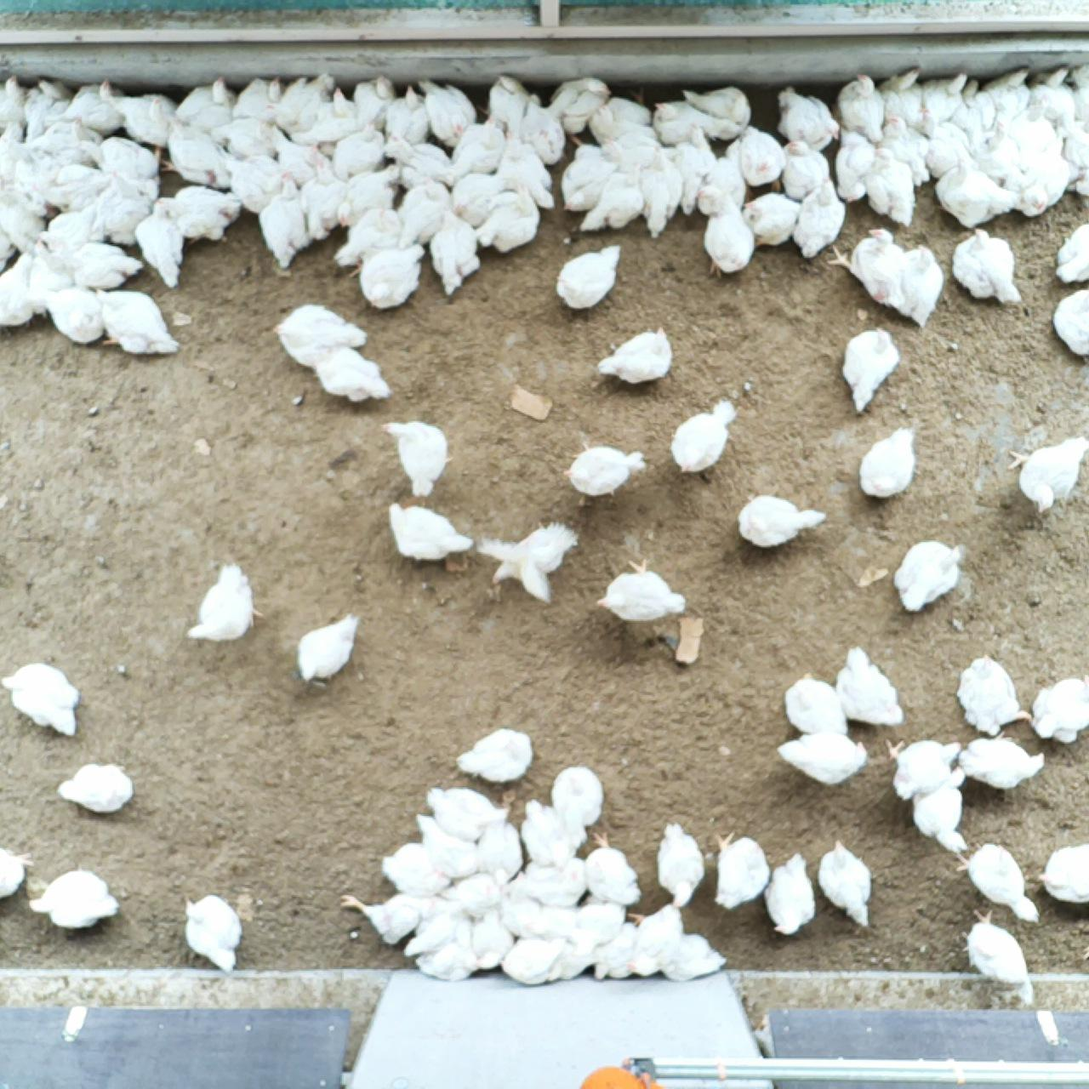chicken: (475, 514, 582, 607), (955, 903, 1038, 1005), (952, 838, 1045, 925), (181, 559, 266, 647), (1006, 432, 1089, 519), (591, 553, 691, 625), (25, 861, 124, 931), (268, 302, 369, 369), (0, 659, 83, 738), (379, 415, 457, 499), (954, 654, 1033, 736), (891, 536, 968, 620), (670, 393, 741, 484), (905, 761, 973, 856), (156, 114, 238, 192), (956, 727, 1048, 796), (94, 285, 182, 357), (826, 227, 903, 309), (835, 643, 907, 730), (934, 156, 1018, 230), (949, 222, 1021, 308), (302, 342, 393, 409), (384, 499, 474, 566), (179, 888, 246, 976), (879, 734, 964, 803), (840, 323, 903, 416), (557, 437, 650, 500), (814, 836, 876, 929), (775, 728, 871, 788), (592, 323, 678, 388), (344, 242, 426, 310), (155, 184, 243, 247), (735, 490, 830, 548), (133, 197, 192, 290), (709, 826, 772, 912), (424, 782, 514, 842), (620, 899, 685, 982), (293, 610, 362, 687), (700, 191, 758, 282), (75, 133, 164, 192), (780, 668, 856, 737), (426, 206, 482, 299), (553, 241, 625, 313), (654, 818, 709, 912), (258, 175, 313, 269), (544, 75, 614, 148), (453, 723, 535, 785), (856, 423, 921, 501), (334, 888, 435, 938), (763, 849, 818, 939), (582, 830, 646, 907), (791, 175, 848, 260), (772, 83, 841, 153), (329, 210, 403, 275), (411, 810, 479, 880), (638, 143, 685, 242), (55, 759, 136, 816), (1025, 672, 1089, 744), (517, 794, 580, 867), (680, 81, 755, 142), (672, 121, 718, 219), (298, 157, 350, 242), (896, 241, 946, 329), (865, 145, 917, 229), (38, 281, 106, 345), (333, 164, 402, 227), (577, 167, 640, 236), (588, 83, 654, 148), (546, 760, 609, 828), (107, 87, 176, 149), (656, 929, 731, 986), (378, 837, 452, 894), (265, 73, 336, 132), (520, 853, 593, 910), (89, 177, 157, 238), (501, 138, 557, 212), (831, 71, 887, 145), (418, 77, 478, 146), (559, 143, 618, 213), (292, 84, 359, 145), (393, 179, 452, 248), (490, 182, 544, 256), (67, 237, 138, 293), (400, 901, 467, 959), (174, 74, 242, 131), (59, 83, 130, 137), (777, 137, 832, 204), (880, 115, 931, 187), (452, 115, 507, 181), (385, 131, 452, 185), (445, 169, 512, 223), (27, 241, 76, 314), (1035, 840, 1089, 906), (221, 153, 287, 207), (922, 113, 975, 180), (474, 815, 525, 884), (515, 93, 565, 163), (742, 189, 800, 249), (832, 125, 876, 204), (466, 906, 516, 975), (696, 152, 746, 220), (569, 891, 624, 952), (331, 121, 386, 182), (0, 249, 37, 339), (499, 935, 563, 987), (737, 124, 789, 188), (36, 116, 105, 162), (38, 204, 100, 255), (591, 918, 640, 982), (35, 162, 102, 207), (383, 84, 433, 144), (922, 67, 972, 127), (209, 116, 277, 160), (879, 67, 928, 128), (412, 938, 475, 985), (1032, 65, 1076, 131), (503, 871, 545, 939), (351, 72, 397, 133), (443, 869, 502, 916), (270, 125, 322, 178), (479, 73, 530, 127), (1026, 140, 1073, 198), (1002, 164, 1051, 219), (1053, 288, 1089, 362), (984, 66, 1035, 117), (22, 82, 69, 136), (1012, 96, 1059, 150), (0, 157, 46, 212), (599, 134, 667, 171), (1052, 218, 1089, 285), (976, 119, 1023, 171), (233, 75, 287, 119), (0, 191, 41, 247), (653, 95, 697, 147), (543, 945, 604, 982), (0, 73, 33, 135), (0, 843, 35, 901), (513, 905, 567, 942), (1060, 123, 1089, 187), (963, 73, 995, 127), (0, 118, 27, 172), (1072, 66, 1089, 118)
